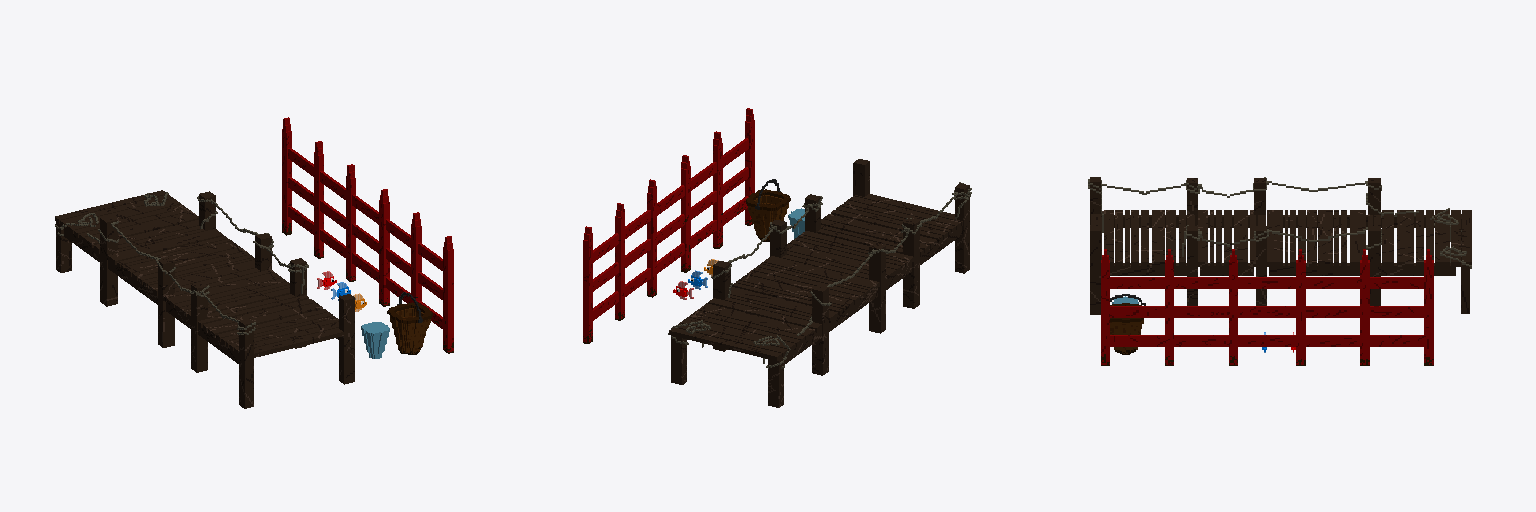
The picture shows the model from 3 angles: view 1: azimuth 30°, elevation 25°; view 2: azimuth 150°, elevation 25°; view 3: azimuth 270°, elevation 25°; orthographic projection.
Parts seen in each view (by area): view 1: object 1; view 2: object 1; view 3: object 1.
Part boxes in pixels (left/top/right/bottom): object 1: left=55, top=117, right=453, bottom=408; object 1: left=583, top=108, right=971, bottom=407; object 1: left=1088, top=177, right=1471, bottom=365.
Size of the model in its own units: 15.6 by 7.9 by 24.
1 materials, 1 textured.